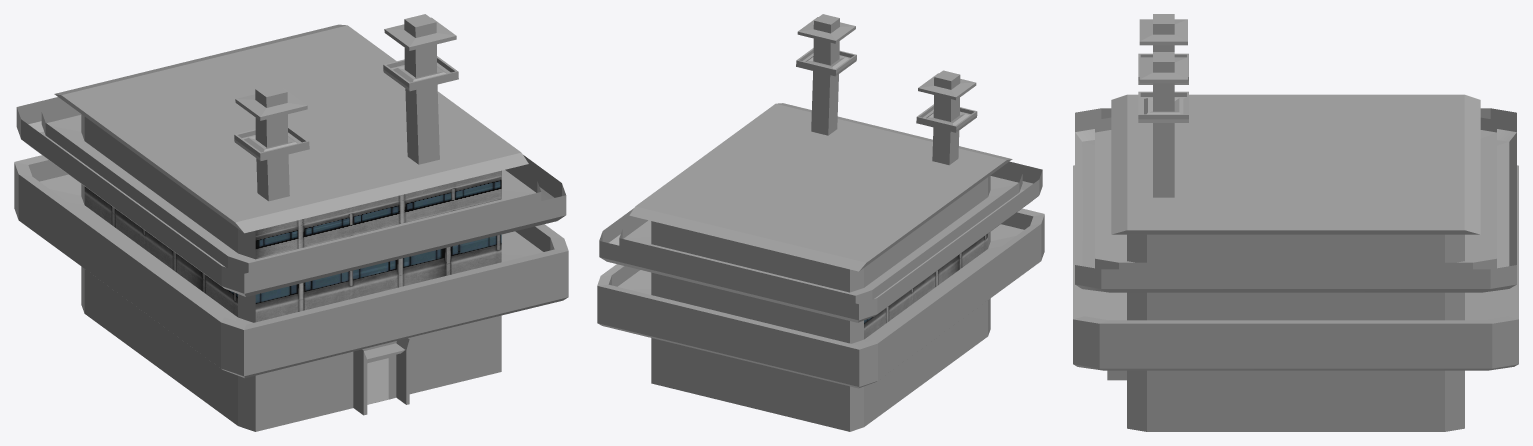
Rendered from Building 4.fbx.
The picture shows the model from 3 angles, left to right: view 1: azimuth 30°, elevation 25°; view 2: azimuth 150°, elevation 25°; view 3: azimuth 270°, elevation 25°; orthographic projection. The views are drawn at different scales.
Parts seen in each view (by area): view 1: polySurface32; view 2: polySurface32; view 3: polySurface32.
Boxes of the visible parts, x1=… form: polySurface32: x1=14, y1=14, x2=568, y2=431; polySurface32: x1=597, y1=14, x2=1044, y2=431; polySurface32: x1=1073, y1=14, x2=1518, y2=431.
Size of the model in its own units: 152 by 149 by 176.
Materials: 2 (1 with a texture image).
